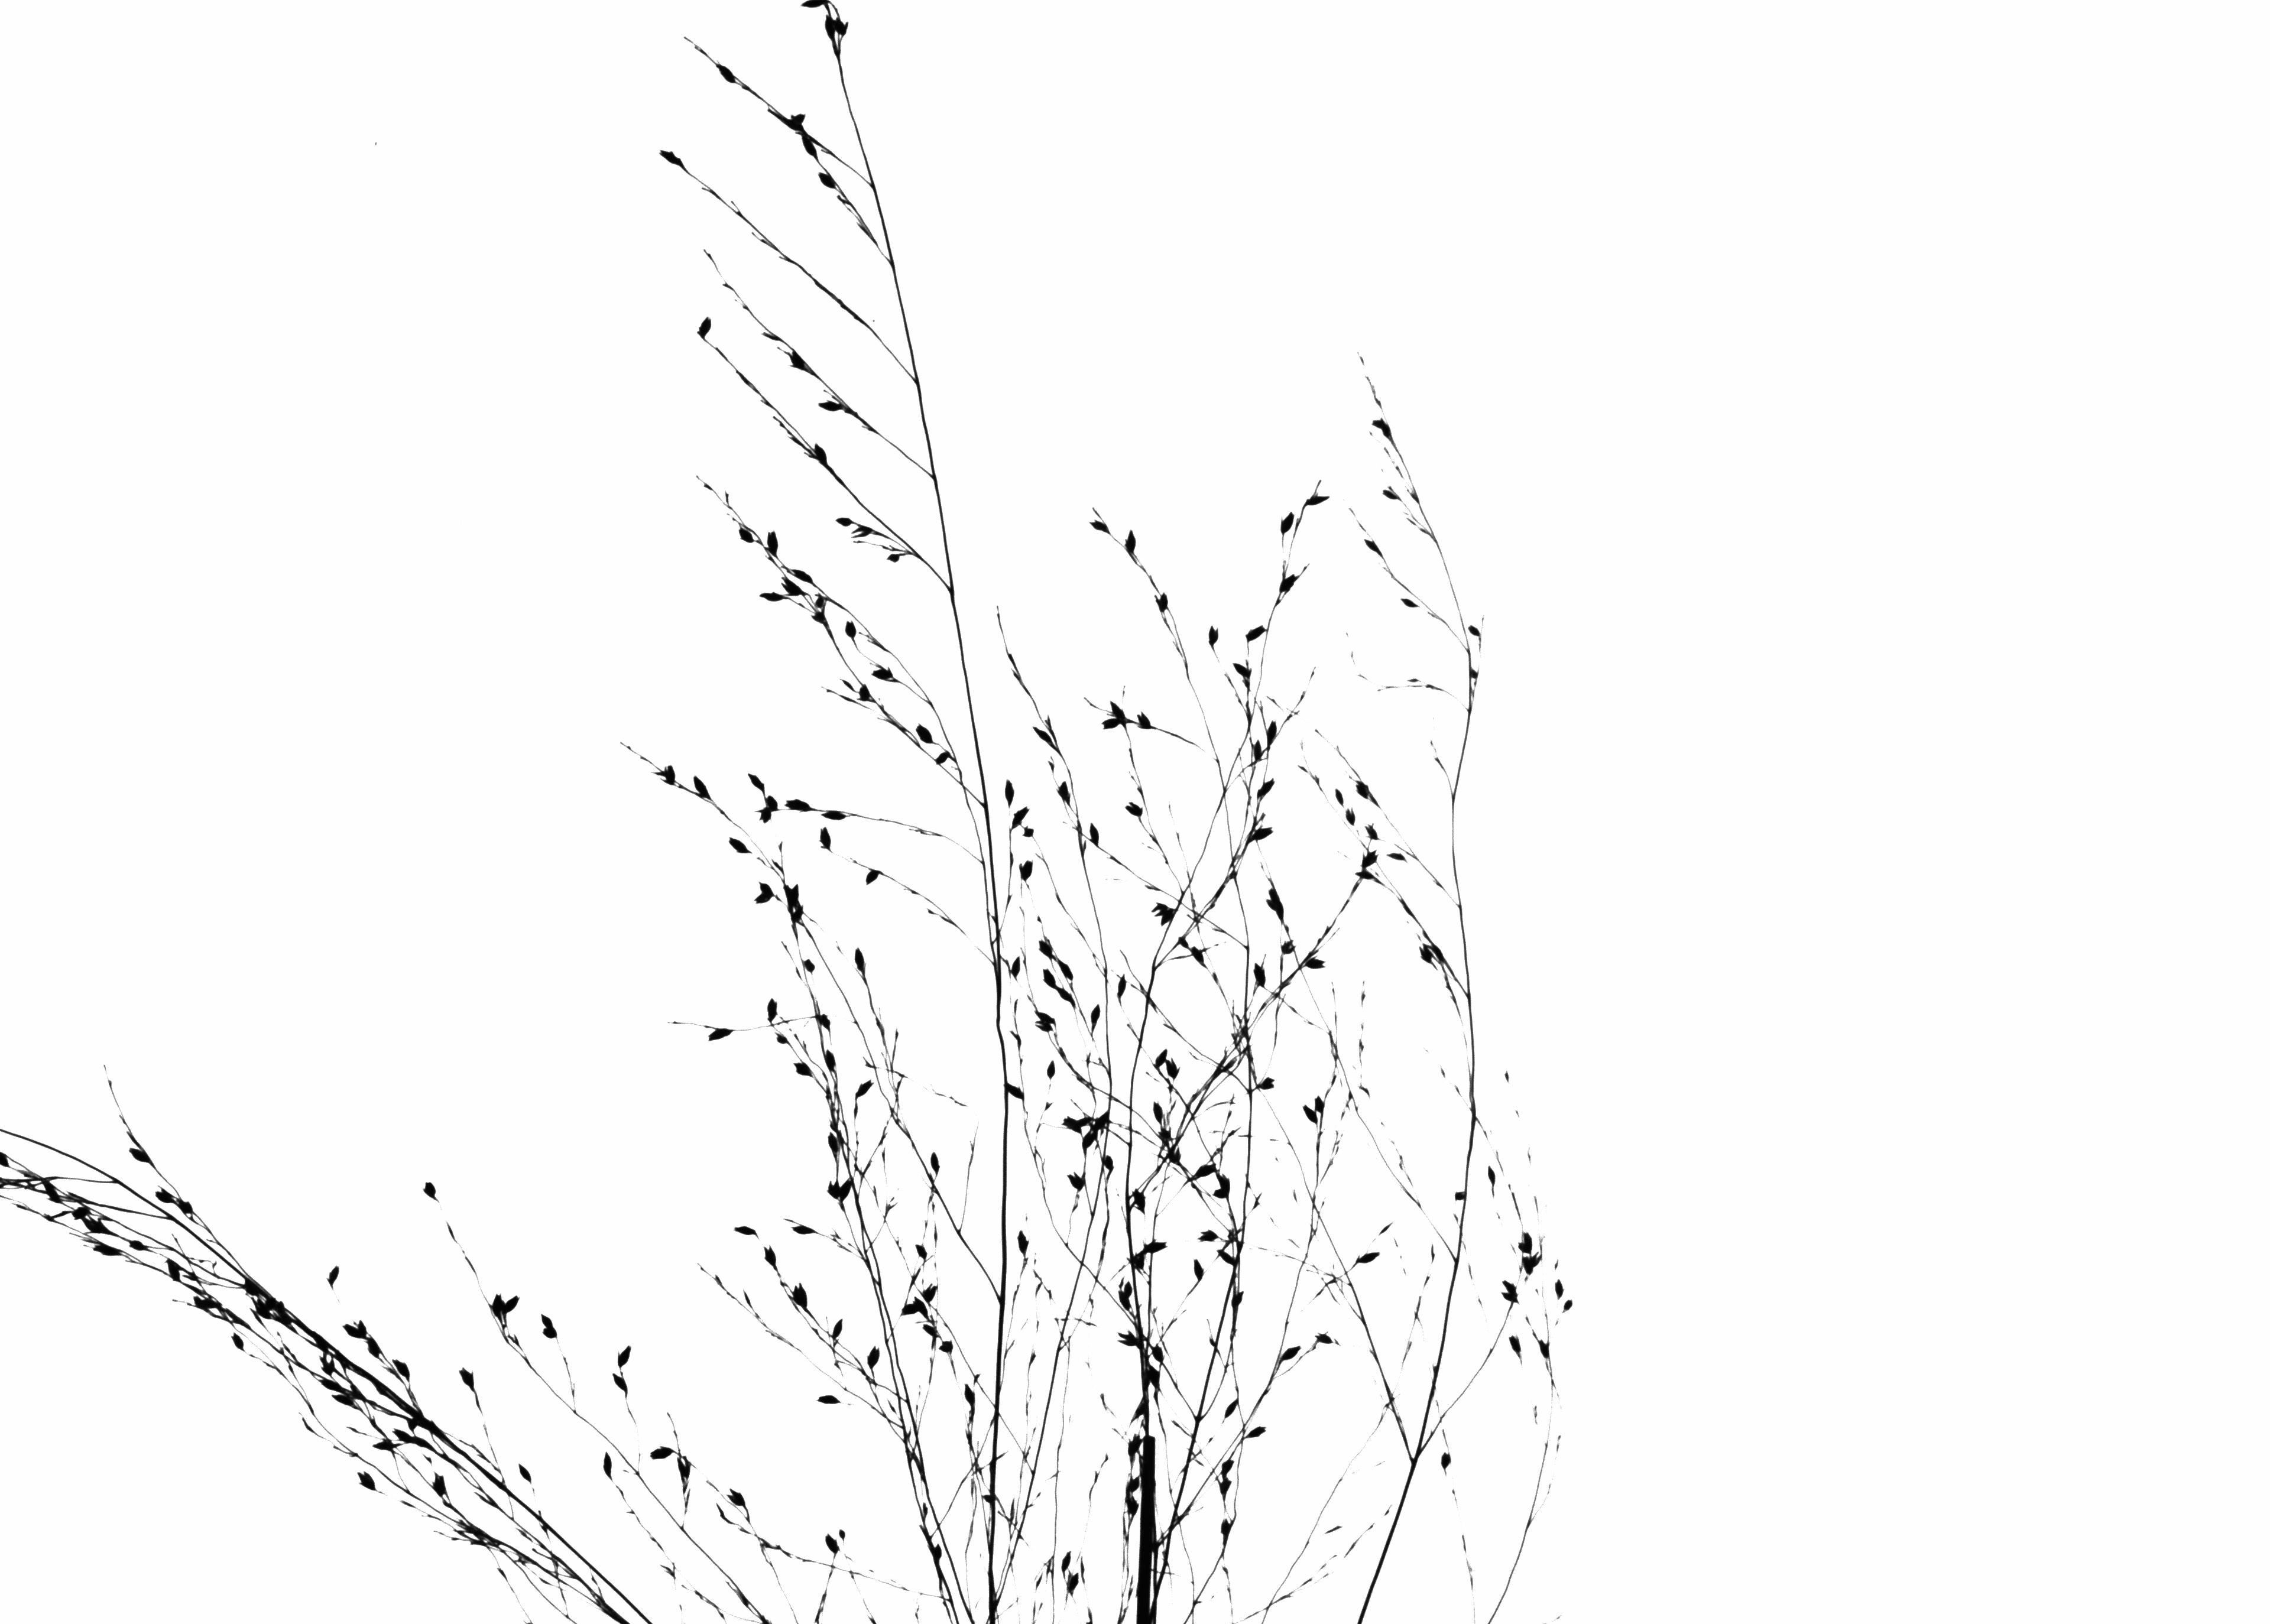seed: (455, 1362, 484, 1394), (712, 58, 740, 86), (353, 1468, 380, 1494), (417, 1176, 441, 1204), (721, 1482, 749, 1506), (788, 562, 816, 587), (691, 773, 714, 803), (798, 132, 821, 162), (812, 1388, 844, 1410), (658, 151, 689, 172), (1243, 622, 1270, 647), (1262, 896, 1287, 923), (726, 835, 753, 859), (40, 1178, 63, 1206), (1108, 700, 1129, 729), (1083, 517, 1113, 538), (865, 1341, 884, 1373), (789, 1222, 821, 1241), (825, 1130, 844, 1162), (788, 344, 807, 376), (1255, 777, 1278, 803), (1250, 823, 1277, 845), (707, 1021, 733, 1044), (914, 721, 937, 747), (814, 170, 840, 193), (925, 1148, 946, 1176), (431, 1469, 450, 1499), (849, 944, 869, 974), (811, 438, 830, 468), (1032, 724, 1057, 747), (1055, 988, 1080, 1011), (1115, 1327, 1139, 1350), (392, 1357, 415, 1381), (608, 1371, 631, 1396), (784, 111, 807, 135), (1278, 571, 1299, 598), (1356, 1248, 1382, 1269), (1009, 805, 1030, 831), (91, 1241, 123, 1258), (821, 1531, 842, 1557), (782, 796, 814, 814), (754, 589, 789, 605), (765, 527, 782, 559), (83, 1216, 111, 1236), (763, 1243, 782, 1271), (731, 1222, 760, 1241), (779, 582, 807, 601), (1132, 1392, 1148, 1425), (615, 1341, 633, 1371), (1280, 1343, 1303, 1366), (853, 1076, 876, 1098), (791, 1058, 814, 1081), (1229, 659, 1254, 680), (1194, 1160, 1219, 1181), (1122, 800, 1146, 821), (164, 1258, 185, 1283), (811, 1011, 835, 1032), (798, 953, 819, 977), (870, 663, 895, 684), (128, 1146, 155, 1165), (517, 1459, 536, 1485), (1124, 527, 1139, 559), (1278, 510, 1296, 538), (1250, 960, 1268, 988), (1081, 1125, 1099, 1153), (329, 1392, 357, 1410), (491, 1287, 505, 1322), (818, 826, 835, 854), (833, 12, 851, 40), (1217, 1248, 1240, 1269), (250, 1297, 273, 1318), (1354, 777, 1373, 801), (1266, 886, 1285, 910), (1417, 946, 1437, 970), (958, 1381, 978, 1406), (318, 1374, 343, 1394), (540, 1306, 559, 1330), (649, 1443, 673, 1462), (747, 770, 767, 794), (840, 619, 860, 643), (1087, 819, 1102, 849), (1015, 1227, 1030, 1257), (763, 993, 779, 1023), (818, 399, 848, 415), (797, 1278, 811, 1311), (1301, 1100, 1319, 1127), (1535, 1334, 1553, 1360), (125, 1236, 151, 1253), (1366, 415, 1394, 431), (1264, 717, 1278, 749), (1507, 1330, 1523, 1359), (1004, 1081, 1025, 1102), (367, 1334, 383, 1362), (663, 761, 679, 789), (735, 524, 756, 545), (696, 313, 712, 341), (821, 16, 837, 44), (911, 1295, 930, 1318), (192, 1294, 211, 1316), (1138, 707, 1155, 731), (1057, 958, 1074, 982), (1129, 1188, 1146, 1213), (1190, 1257, 1208, 1281), (830, 1316, 848, 1341), (855, 680, 872, 705), (1115, 970, 1129, 1000), (601, 1448, 615, 1478), (823, 807, 853, 821), (1305, 492, 1331, 508), (1363, 536, 1382, 557), (1361, 847, 1380, 868), (1278, 935, 1298, 956), (1062, 1113, 1083, 1132), (343, 1320, 364, 1339), (863, 866, 883, 888), (1189, 944, 1206, 967), (1034, 1007, 1057, 1025), (1222, 1396, 1240, 1418), (1206, 620, 1220, 649), (1150, 1098, 1164, 1127), (1002, 777, 1016, 805), (786, 882, 800, 910), (1018, 858, 1034, 882), (1095, 1109, 1111, 1134), (1143, 1239, 1168, 1255), (230, 1330, 246, 1355), (825, 1048, 840, 1072), (178, 1197, 197, 1216), (1248, 736, 1262, 763), (1303, 958, 1329, 972), (1164, 1058, 1182, 1079), (1057, 777, 1071, 803), (1037, 939, 1055, 960), (1197, 1227, 1219, 1244), (1219, 1475, 1233, 1501), (840, 1176, 855, 1202), (921, 1323, 942, 1341), (392, 1427, 413, 1445), (542, 1325, 563, 1343), (1219, 1171, 1231, 1200), (1398, 596, 1421, 612), (1153, 1048, 1169, 1070), (1059, 1550, 1074, 1573), (505, 1292, 520, 1315), (1354, 868, 1379, 882), (1484, 1165, 1498, 1190), (1521, 1229, 1535, 1253), (1438, 1448, 1452, 1473), (1088, 1002, 1102, 1026), (1231, 1287, 1245, 1311), (1502, 1278, 1521, 1295), (1259, 1076, 1278, 1093), (1102, 715, 1122, 733), (1067, 1171, 1085, 1190), (937, 749, 955, 768), (1379, 487, 1400, 503), (1387, 849, 1408, 865), (1498, 1290, 1519, 1306), (1160, 905, 1176, 926), (1039, 967, 1055, 988), (1313, 1330, 1335, 1346), (155, 1190, 176, 1206), (318, 1353, 334, 1374), (1148, 1364, 1160, 1390), (1125, 1436, 1138, 1462), (1069, 1570, 1081, 1596), (1117, 1290, 1131, 1313), (1245, 1425, 1268, 1439), (1125, 1496, 1139, 1519), (70, 1204, 93, 1218), (373, 1439, 396, 1454), (327, 1264, 341, 1287), (1099, 1153, 1117, 1171), (1220, 1457, 1238, 1475), (1465, 622, 1484, 638), (1451, 1188, 1470, 1204), (1168, 1146, 1183, 1165), (1131, 1253, 1146, 1272), (914, 1243, 930, 1262), (937, 1339, 957, 1355), (1159, 589, 1171, 613), (1011, 954, 1023, 979), (357, 1315, 369, 1339), (1345, 805, 1359, 826), (1521, 1257, 1535, 1278), (1127, 1475, 1141, 1496), (900, 1301, 921, 1315), (753, 893, 774, 907), (761, 879, 775, 900), (1044, 1058, 1057, 1081), (1124, 1276, 1136, 1299), (1219, 1517, 1231, 1540), (793, 903, 805, 926), (1364, 823, 1380, 840), (923, 1285, 939, 1302), (774, 1032, 791, 1048), (765, 794, 781, 812), (835, 515, 855, 529), (1333, 784, 1345, 805), (826, 1179, 839, 1200), (1561, 1297, 1575, 1315), (1160, 1127, 1171, 1149), (1313, 1093, 1326, 1113), (979, 1492, 999, 1504), (1554, 1278, 1565, 1299), (1153, 1341, 1164, 1362), (886, 552, 902, 566), (809, 615, 828, 626), (934, 1543, 944, 1561), (837, 1527, 849, 1541), (1023, 826, 1034, 840)
